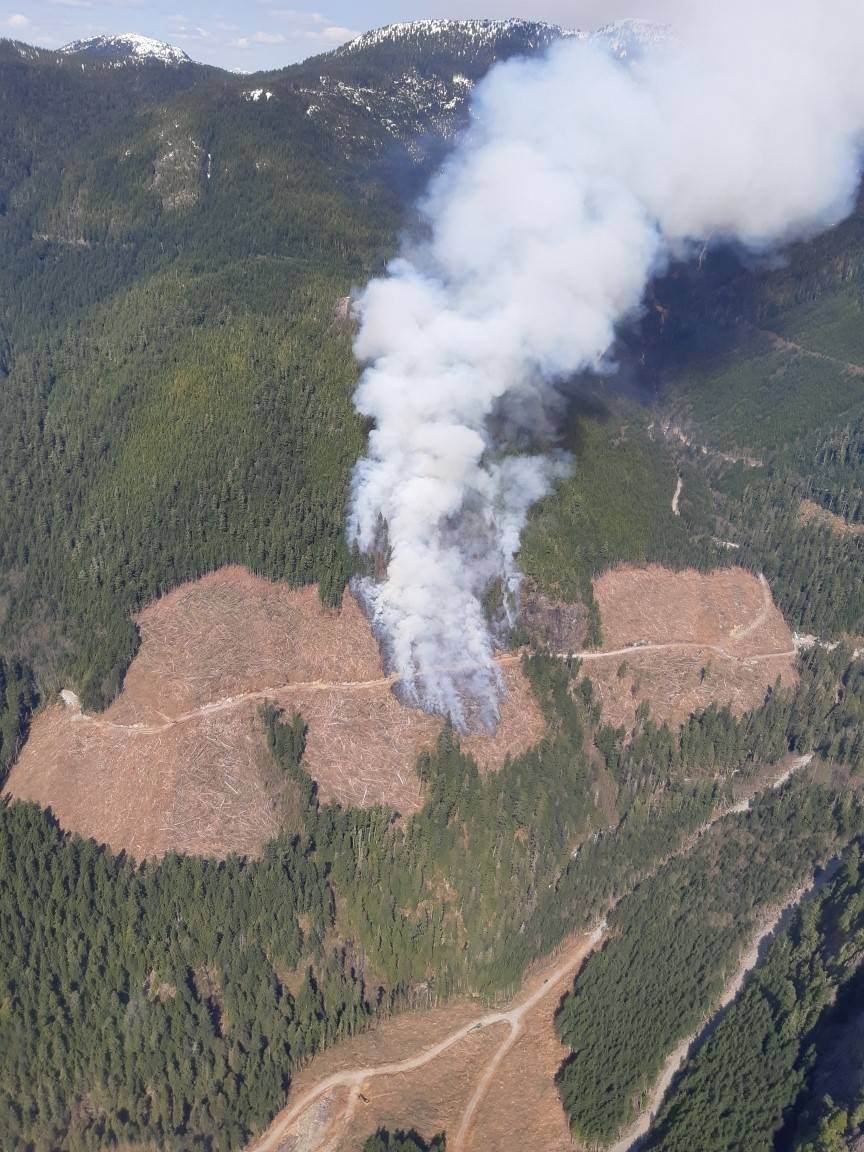fire: (335, 353, 570, 751)
